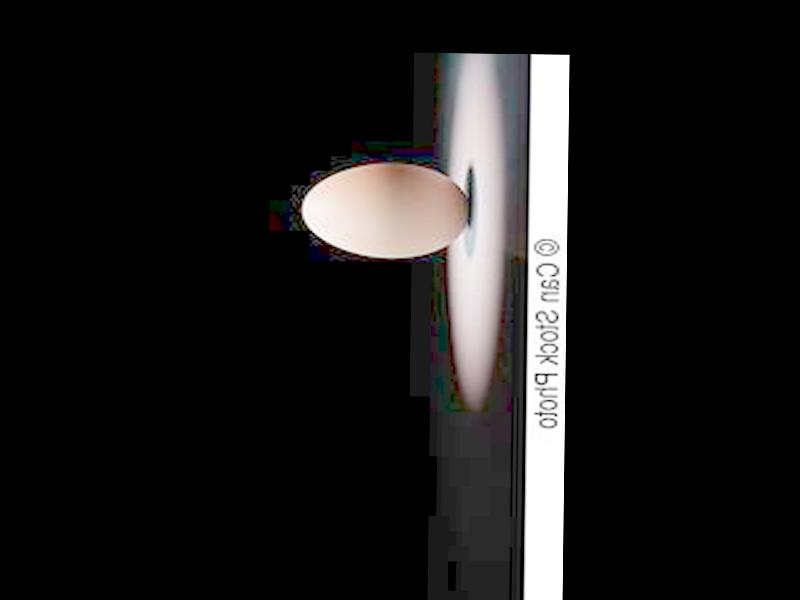Eggs: (302, 159, 471, 259)
